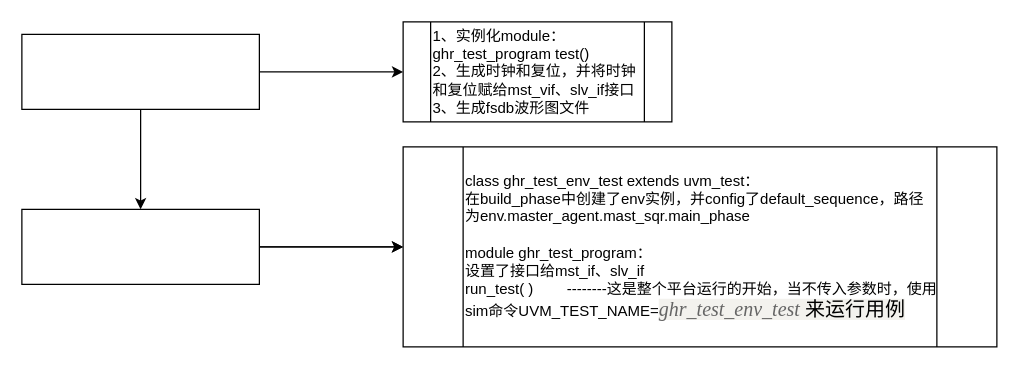
This 1019x369 diagram has some shape labels left out. The shapes that lost their labels are listed below. From the top down, each one's centre as x and y in pixels, then its label:
At pixel 140 71: "ghr_test_dut_top.sv module ghr_test_dut_top".
At pixel 140 246: "ghr_test_program.sv".
